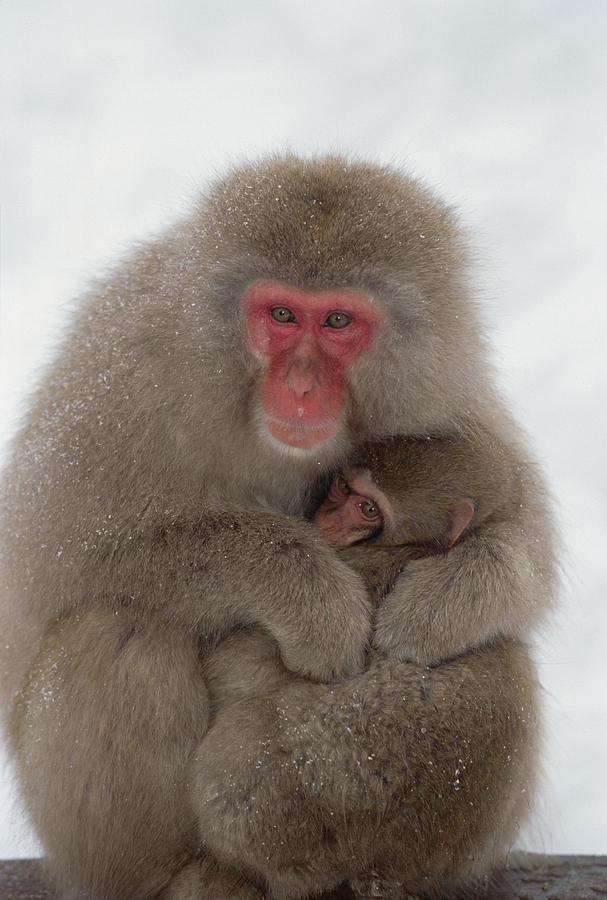monkey: (0, 157, 564, 900)
